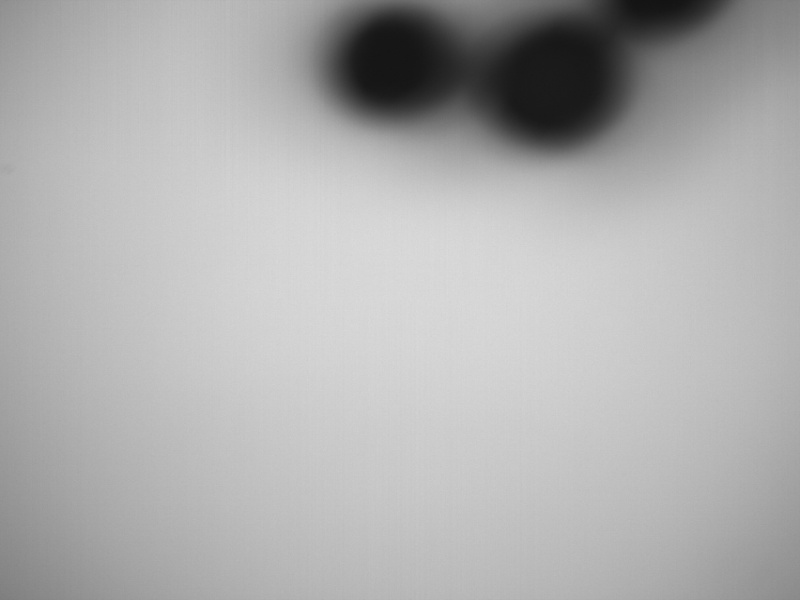bead: (486, 15, 612, 135), (341, 7, 455, 120), (600, 1, 718, 39)
